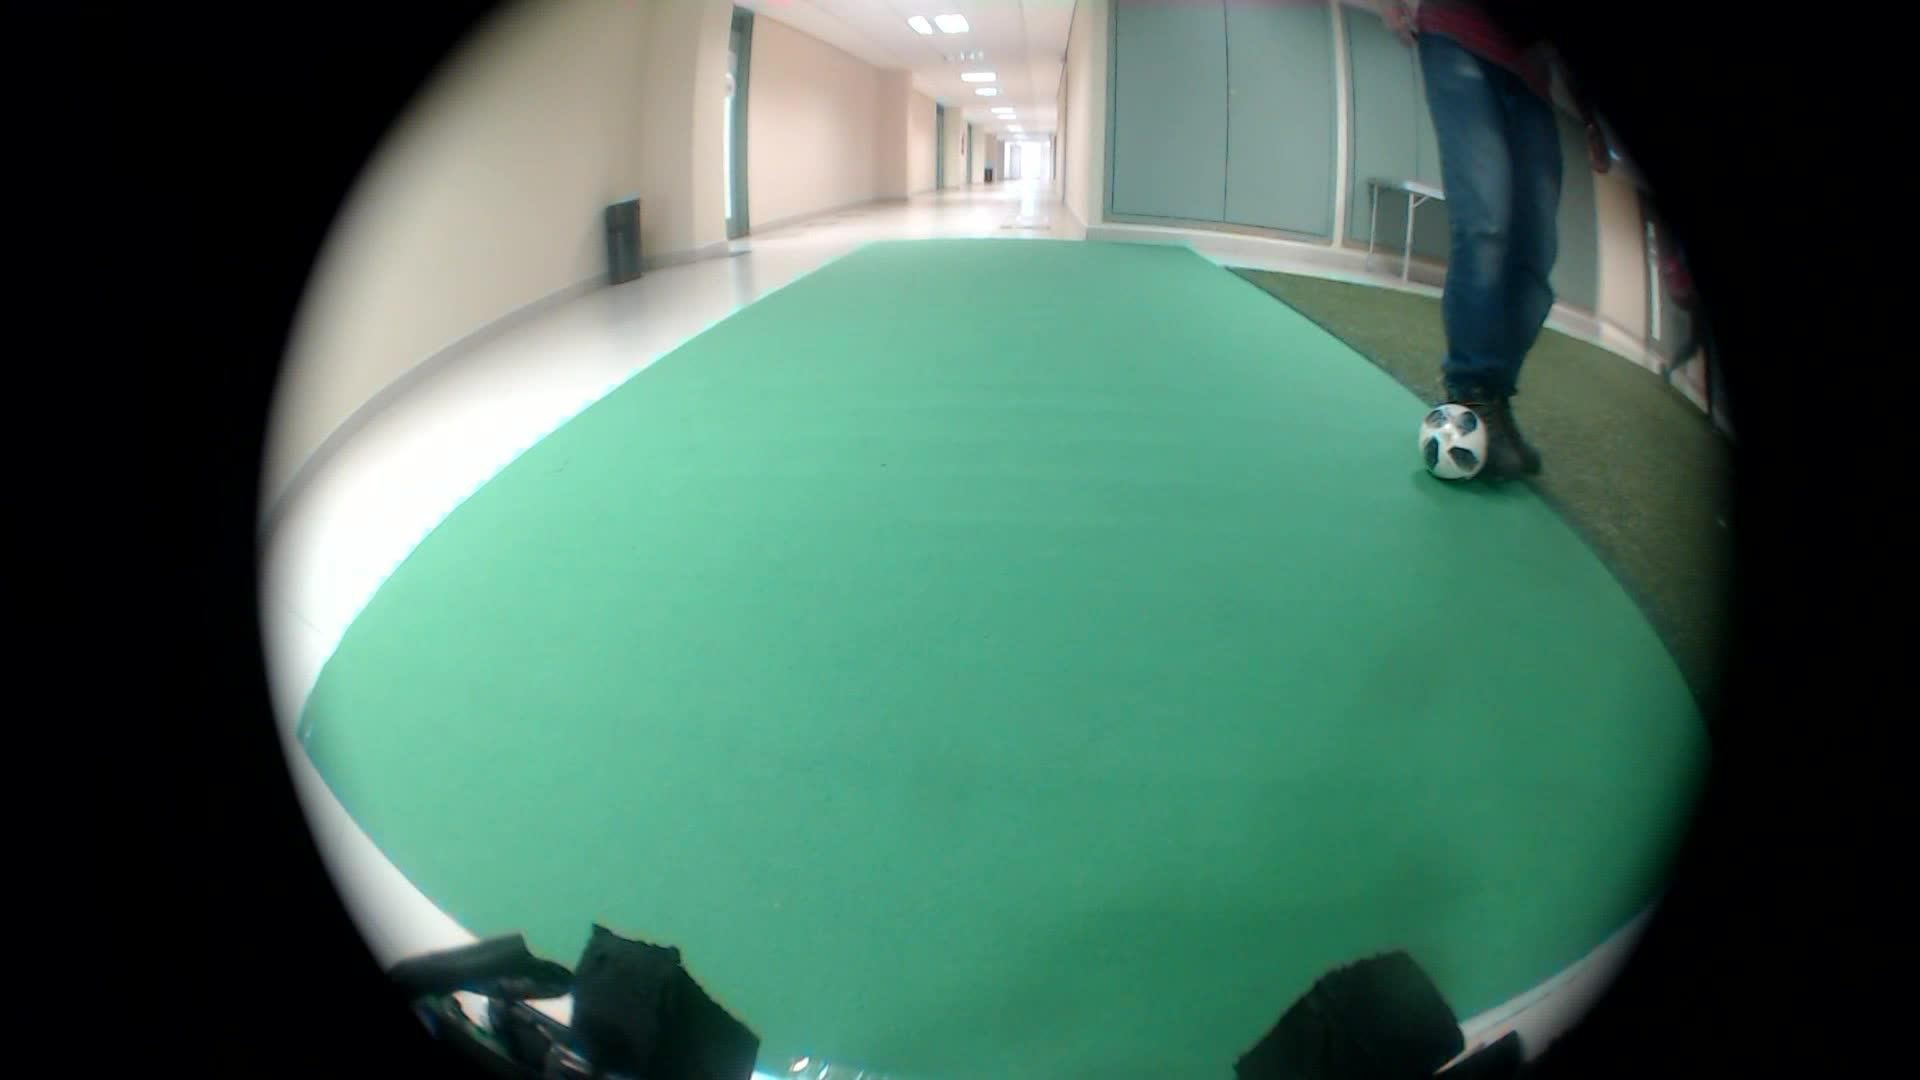ball: (1400, 400, 1501, 496)
